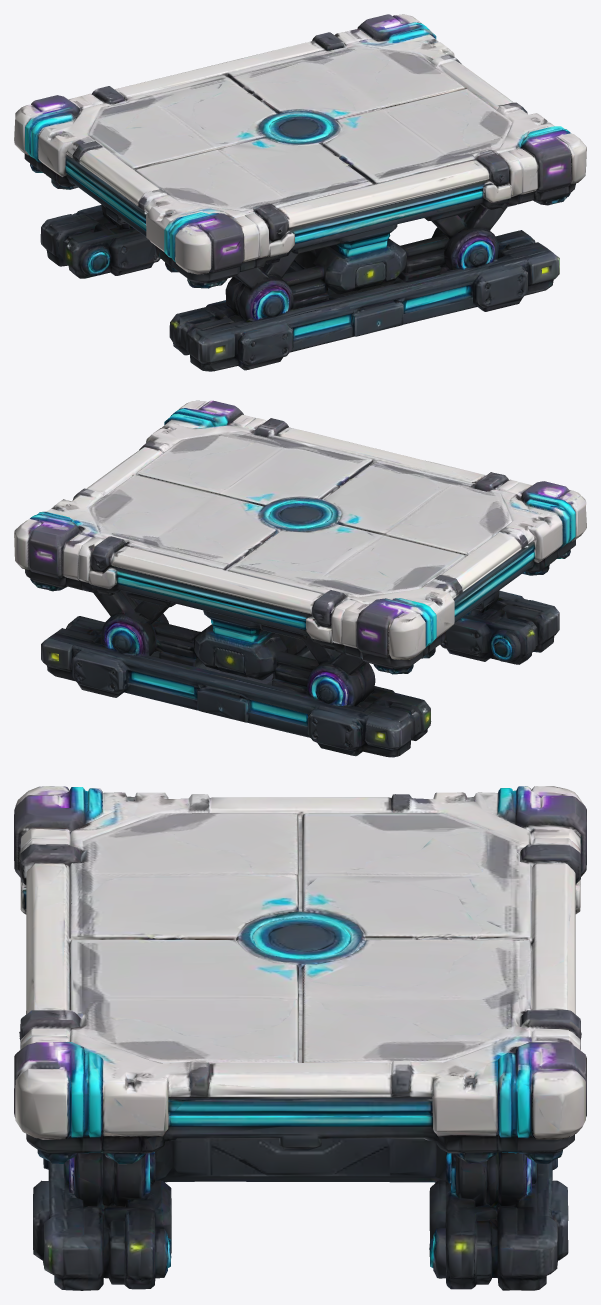
The model's file is model-19-lift-platform.glb.
The picture shows the model from 3 angles, top to bottom: view 1: azimuth 30°, elevation 25°; view 2: azimuth 150°, elevation 25°; view 3: azimuth 270°, elevation 25°; orthographic projection. The views are drawn at different scales.
Parts seen in each view (by area): view 1: node_0; view 2: node_0; view 3: node_0.
Boxes of the visible parts, x1=… form: node_0: x1=14, y1=14, x2=586, y2=371; node_0: x1=14, y1=400, x2=586, y2=757; node_0: x1=14, y1=786, x2=586, y2=1290.
Bounding box in the file's own units: 0.9342 × 0.344 × 0.7472.
Materials: 1 (1 with a texture image).
